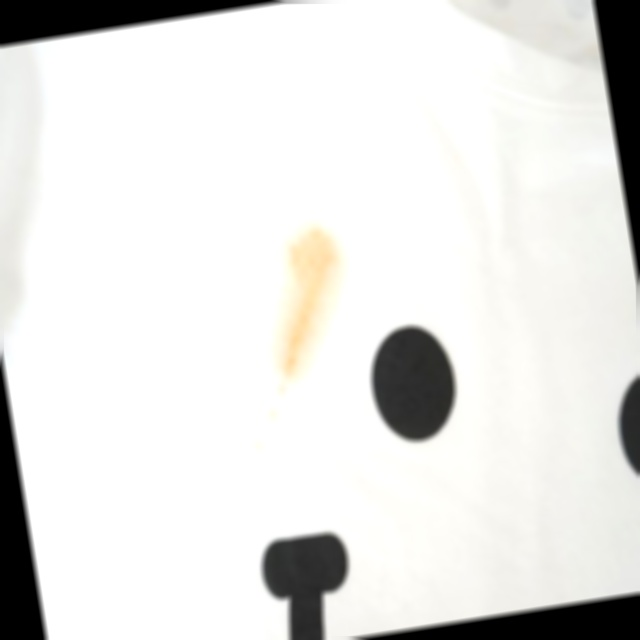kimchi: (214, 209, 380, 448)
